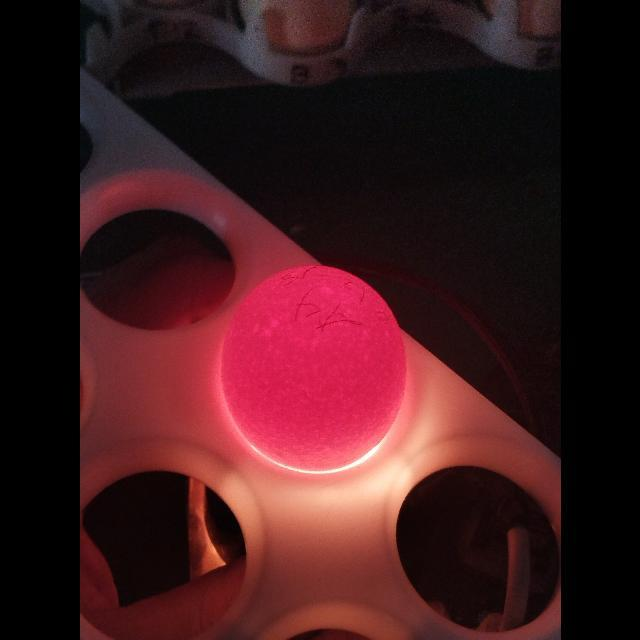Infertile: (216, 259, 412, 485)
